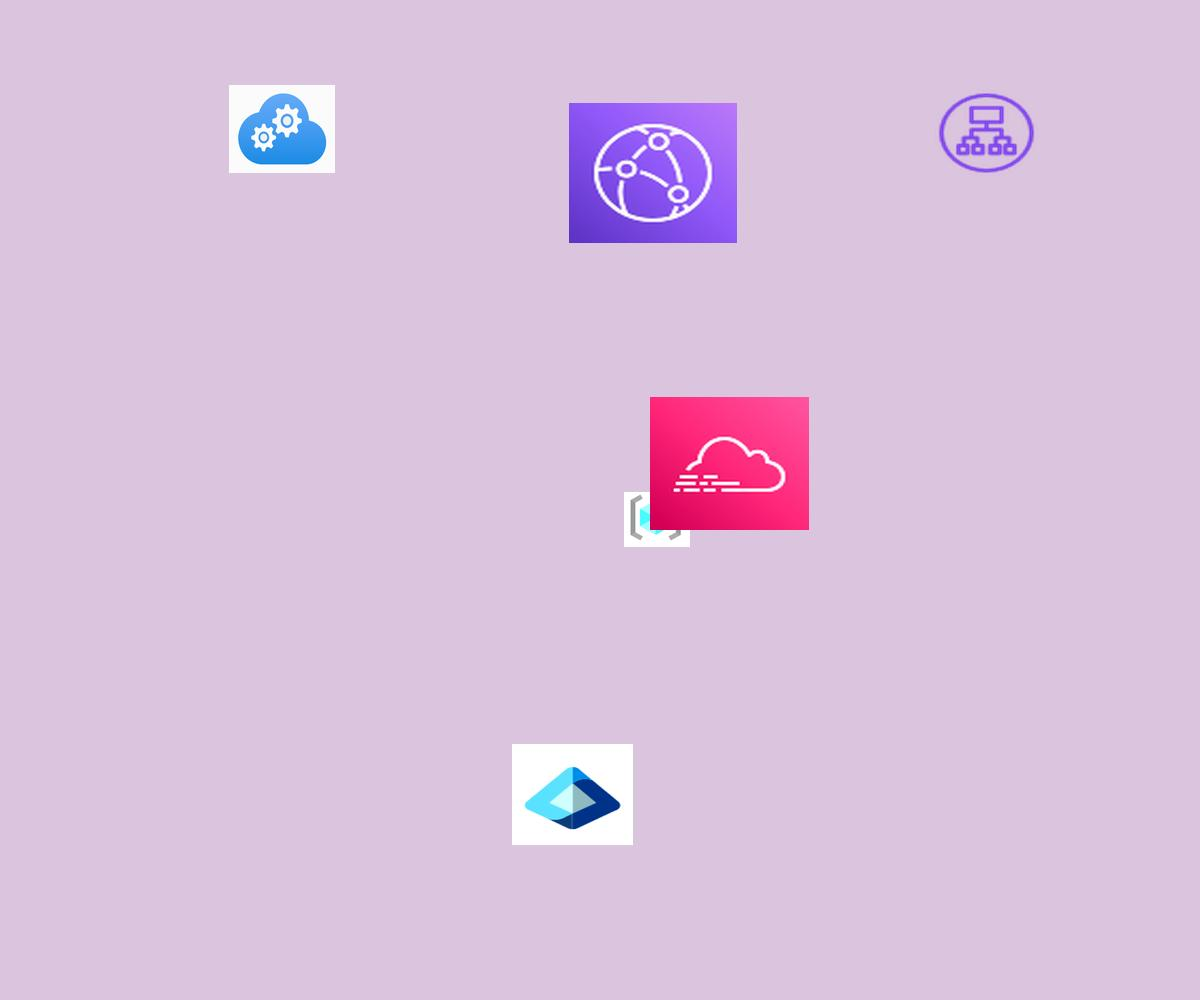AWS-CloudFront: (569, 103, 737, 243)
AWS-CloudTrail: (650, 397, 809, 530)
AWS-Res_Elastic-Load-Balancing_Application-Load-Balancer: (935, 90, 1038, 176)
Azure_cloud_services: (229, 85, 335, 173)
Azure_microsoft_entra: (512, 744, 633, 845)
Azure_resource_group: (624, 492, 690, 547)
